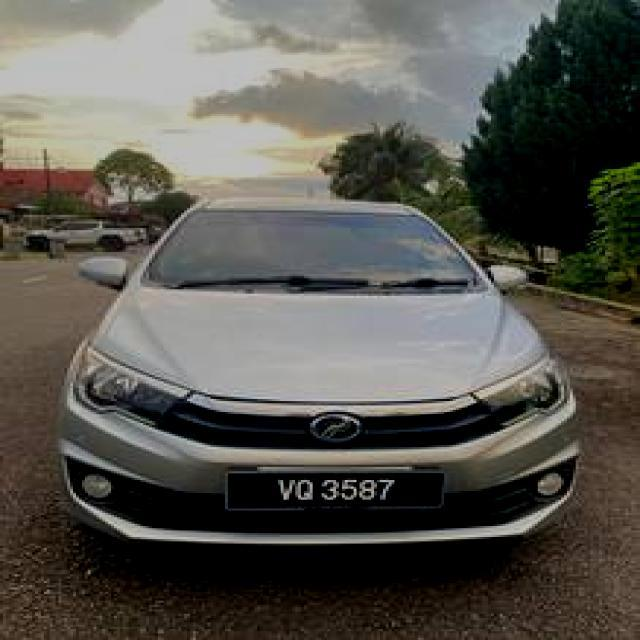PeroduaBezza: (56, 194, 582, 549)
